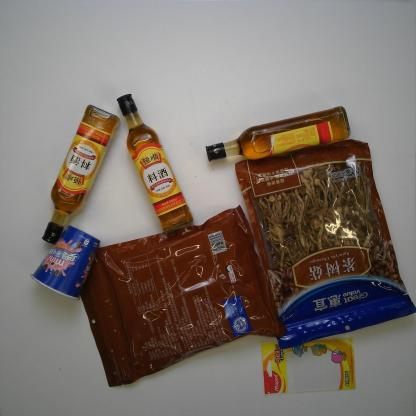Dessert: (28, 223, 102, 302)
Dried Food: (232, 137, 416, 352), (80, 202, 290, 390)
Seasoner: (40, 104, 124, 244), (117, 90, 194, 237), (202, 101, 352, 168)
Stationery: (260, 338, 360, 398)
